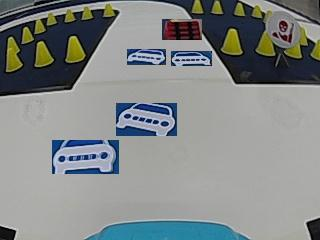evil: (265, 11, 299, 47)
